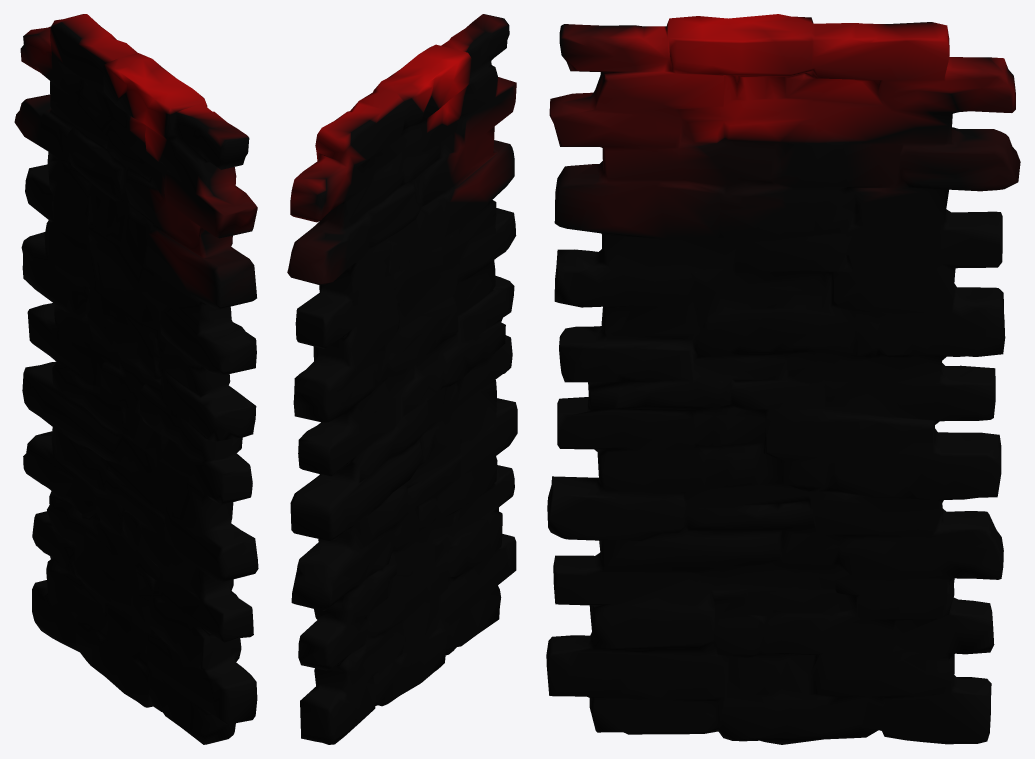
File: SM_Brick_Wall_HalfXFull.fbx
3 views of the same model, side by side, from view 1: azimuth 30°, elevation 25°; view 2: azimuth 150°, elevation 25°; view 3: azimuth 270°, elevation 25° (orthographic). The views are drawn at different scales.
Parts seen in each view (by area): view 1: SM_Brick_Wall_HalfXFull_LOD0; view 2: SM_Brick_Wall_HalfXFull_LOD0; view 3: SM_Brick_Wall_HalfXFull_LOD0.
Part boxes in pixels (<box>): SM_Brick_Wall_HalfXFull_LOD0: <box>14,14,258,744</box>; SM_Brick_Wall_HalfXFull_LOD0: <box>287,14,517,744</box>; SM_Brick_Wall_HalfXFull_LOD0: <box>546,14,1020,744</box>.
Size of the model in its own units: 14.74 by 116 by 191.
